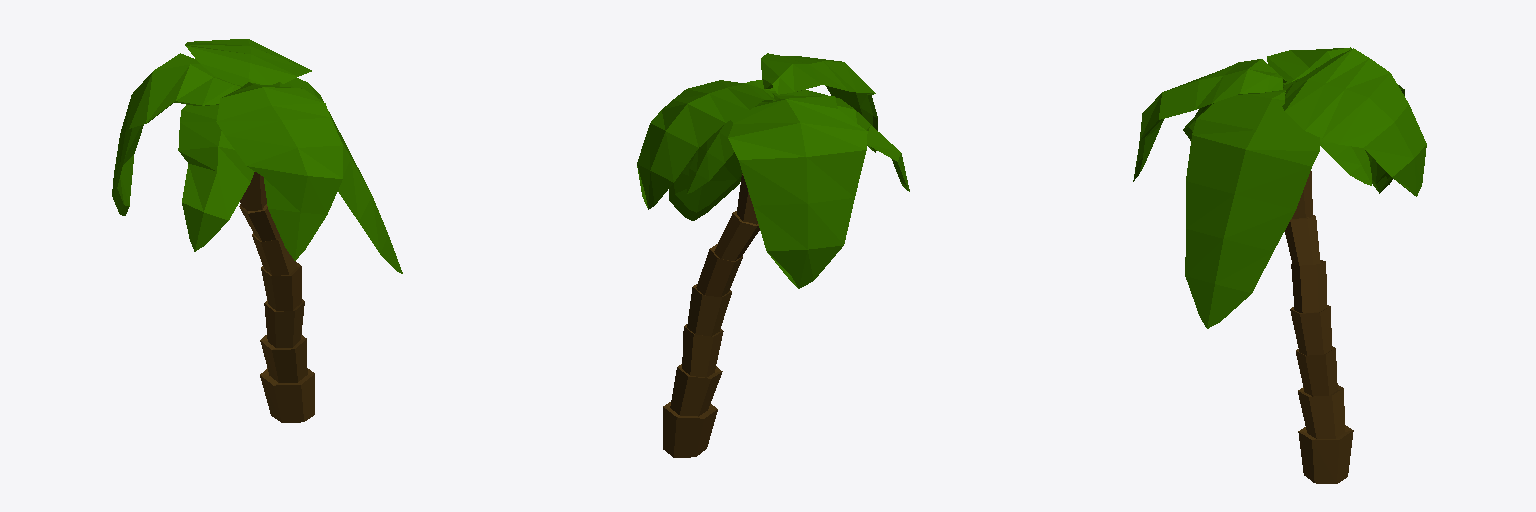
3 views of the same model, side by side, from view 1: azimuth 30°, elevation 25°; view 2: azimuth 150°, elevation 25°; view 3: azimuth 270°, elevation 25° (orthographic).
Parts seen in each view (by area): view 1: Plane.009_Plane.010, Cylinder.001; view 2: Plane.009_Plane.010, Cylinder.001; view 3: Plane.009_Plane.010, Cylinder.001.
Boxes of the visible parts, x1,y1,x2,y2 form: Plane.009_Plane.010: [112, 39, 402, 273]; Cylinder.001: [239, 172, 314, 422]; Plane.009_Plane.010: [637, 53, 909, 288]; Cylinder.001: [663, 174, 759, 457]; Plane.009_Plane.010: [1133, 47, 1426, 328]; Cylinder.001: [1285, 171, 1353, 483].
Bounding box in the file's own units: 4.31 × 6.98 × 4.86.
Materials: 1 (1 with a texture image).